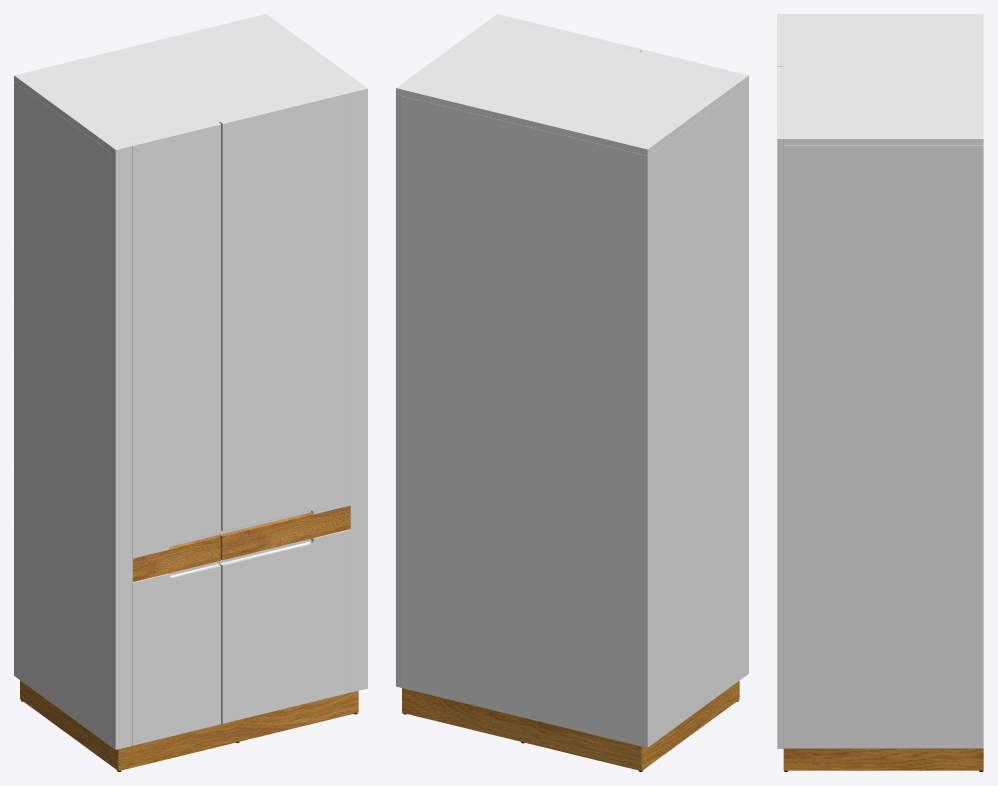
The model's file is B07JGMW8DG.glb.
The picture shows the model from 3 angles, left to right: view 1: azimuth 30°, elevation 25°; view 2: azimuth 150°, elevation 25°; view 3: azimuth 270°, elevation 25°; orthographic projection.
Parts seen in each view (by area): view 1: RootNode; view 2: RootNode; view 3: RootNode.
Part boxes in pixels (bbox=[...]): RootNode: bbox=[14, 14, 367, 771]; RootNode: bbox=[396, 14, 748, 771]; RootNode: bbox=[777, 14, 983, 771].
Size of the model in its own units: 0.86 by 2.04 by 0.6.
Materials: 1 (1 with a texture image).
